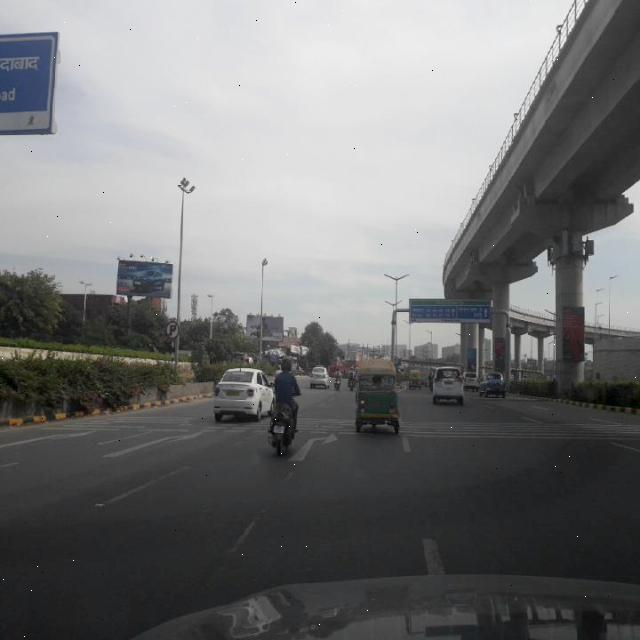D00: (214, 509, 268, 578)
